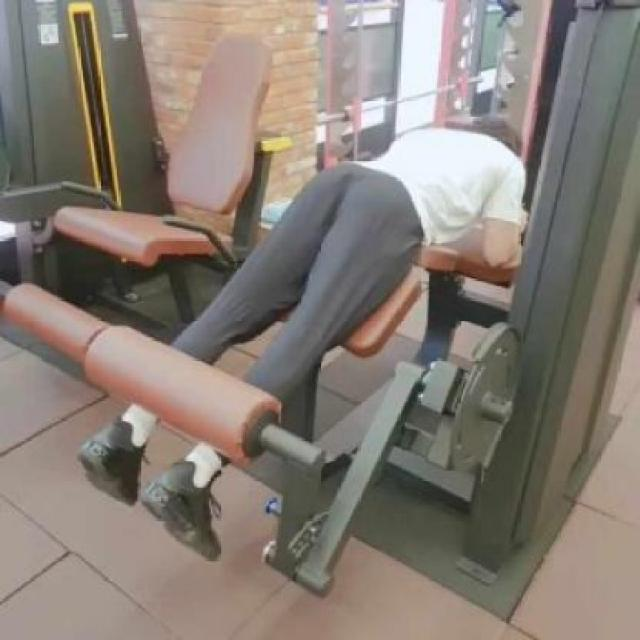reg curl machine: (77, 0, 640, 597)
